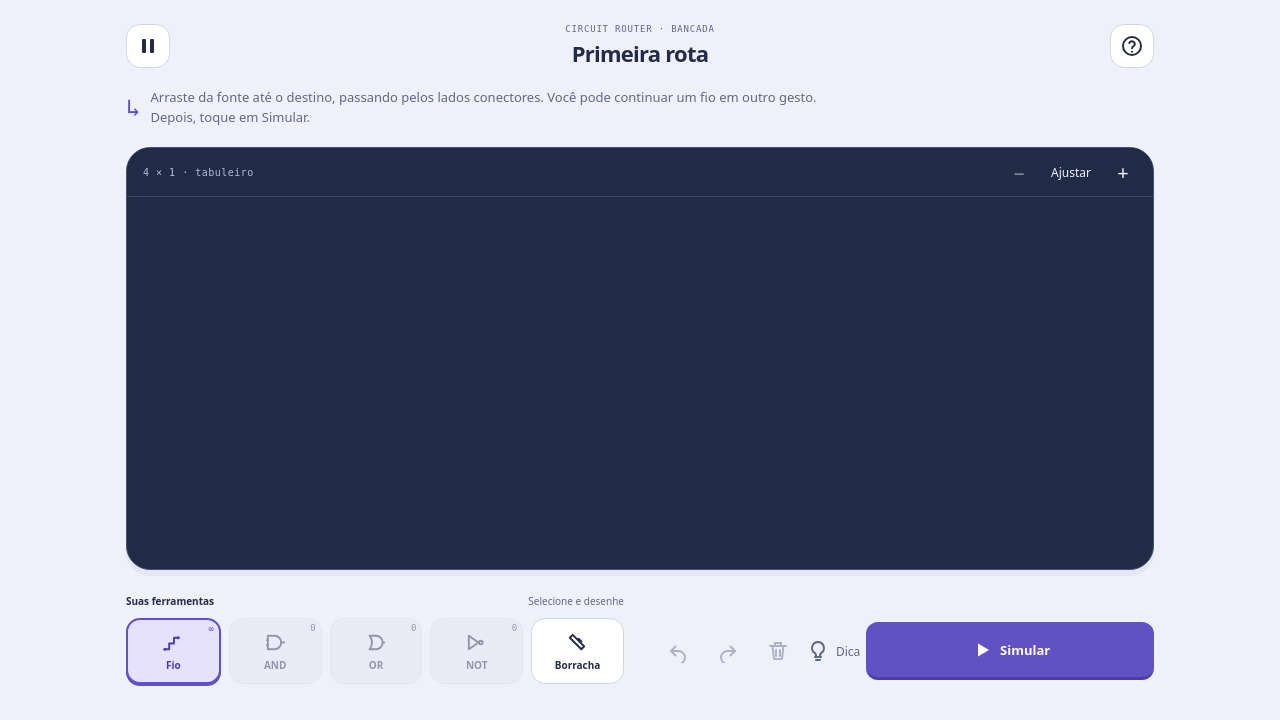
Test: GameScreen · HUD › abre a pausa e retoma
The image size is (1280, 720).
Step 1. Click the button named "Pausar" → (148, 46), box x1=126 y1=24 x2=170 y2=68
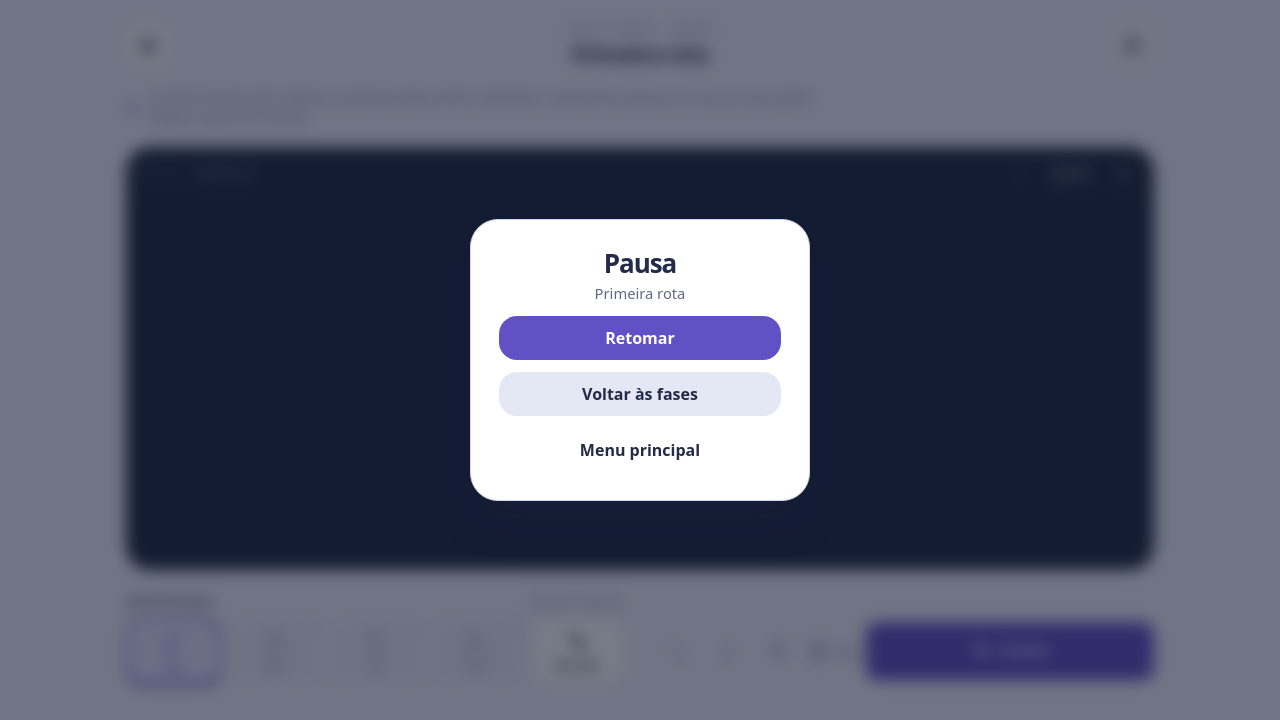
expect the dialog "Pausa" is shown: met, box x1=470 y1=219 x2=810 y2=501
Step 2. Click the button "Retomar" → (640, 338), box x1=499 y1=316 x2=781 y2=360
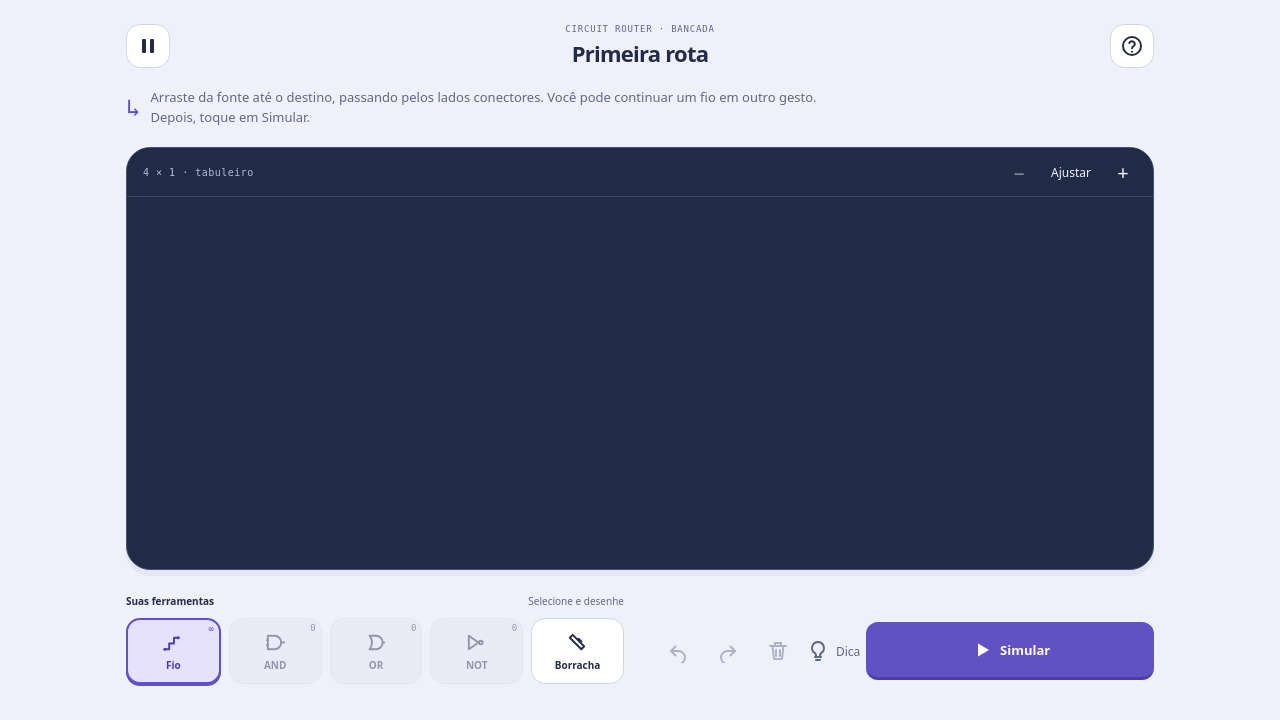
expect the dialog is gone: met
